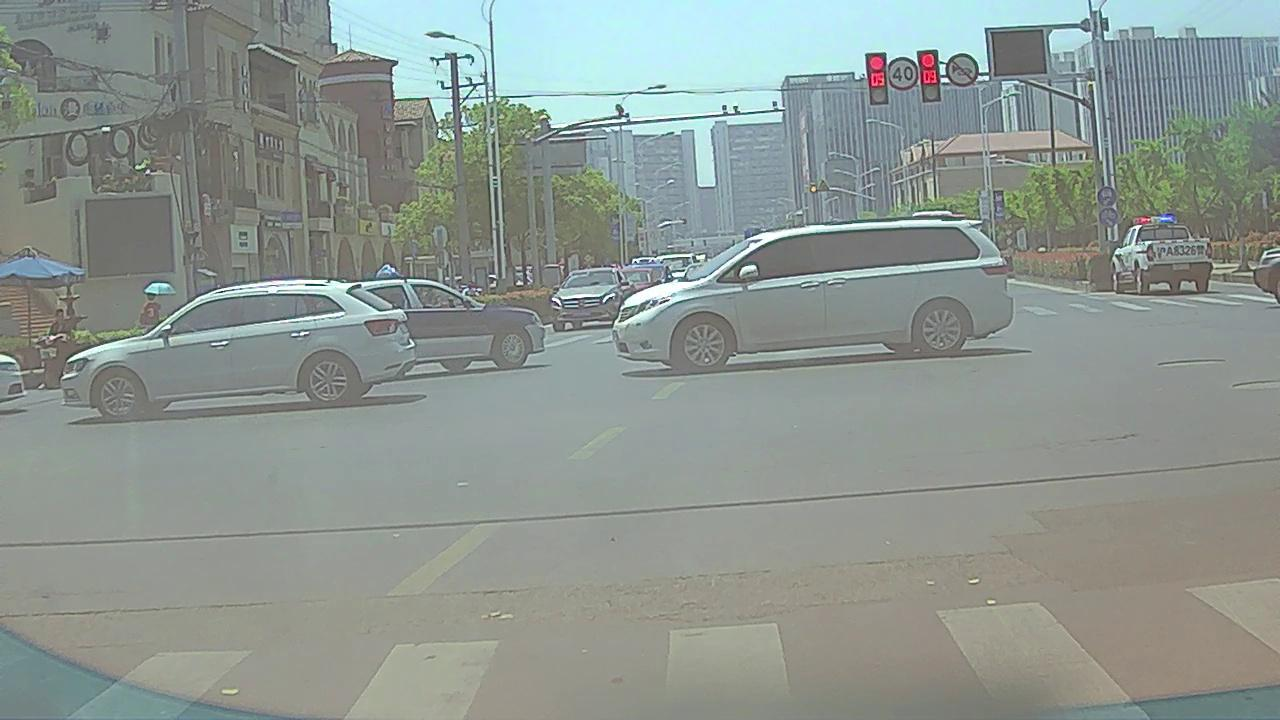traffic_light: (866, 54, 889, 104), (919, 51, 941, 103)
